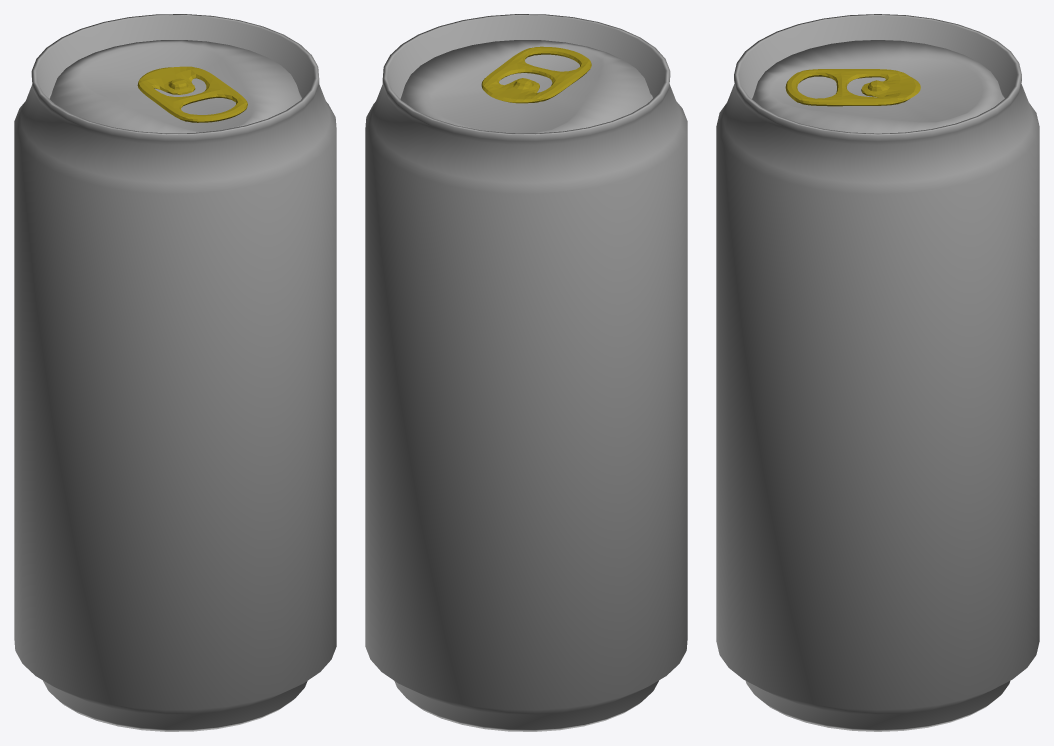
File: ColaCan.dae
3 renders of one model, left to right at view 1: azimuth 30°, elevation 25°; view 2: azimuth 150°, elevation 25°; view 3: azimuth 270°, elevation 25°, orthographic.
Parts seen in each view (by area): view 1: can, tab; view 2: can, tab; view 3: can, tab.
Part boxes in pixels (box(x1,y1,x2,y2)): can: box(14, 14, 336, 731); tab: box(137, 66, 247, 122); can: box(365, 14, 687, 731); tab: box(481, 46, 591, 103); can: box(716, 14, 1039, 731); tab: box(785, 69, 920, 106).
Size of the model in its own units: 0.972 by 2 by 0.972.
